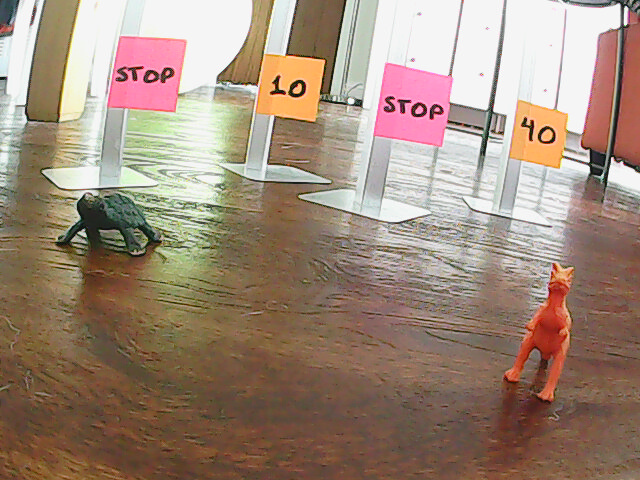10: (261, 62, 319, 112)
40: (518, 114, 563, 161)
dinosaur: (497, 260, 583, 409)
stop: (113, 41, 180, 106), (380, 78, 445, 141)
turtle: (46, 185, 170, 267)
